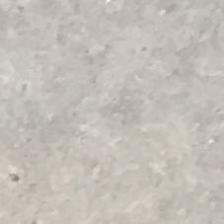Non_Crack: (26, 38, 206, 196)
